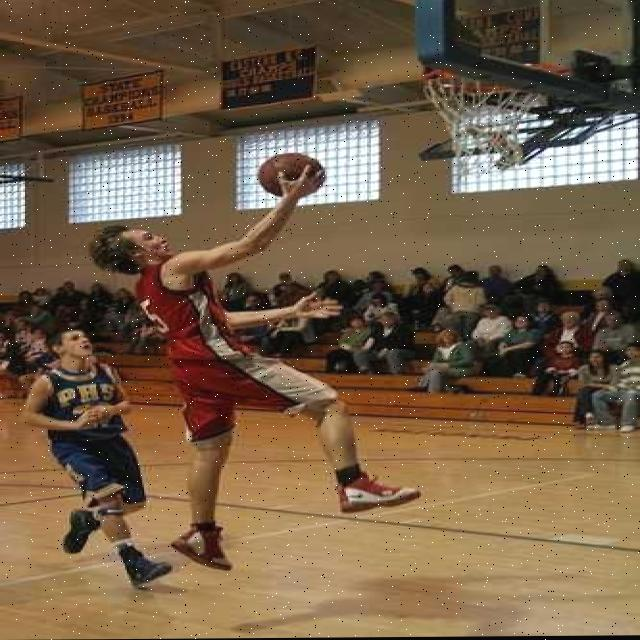basketball: (258, 151, 326, 197)
hoop: (419, 60, 575, 183)
